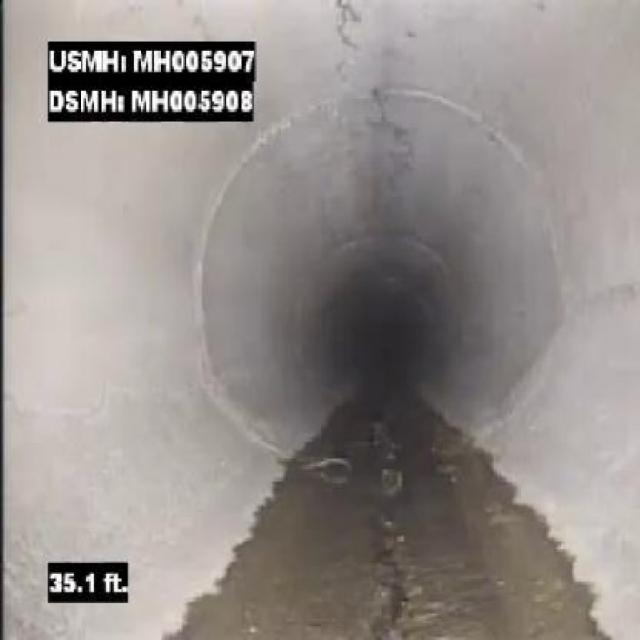Crack: (361, 494, 417, 638), (328, 3, 364, 91)
